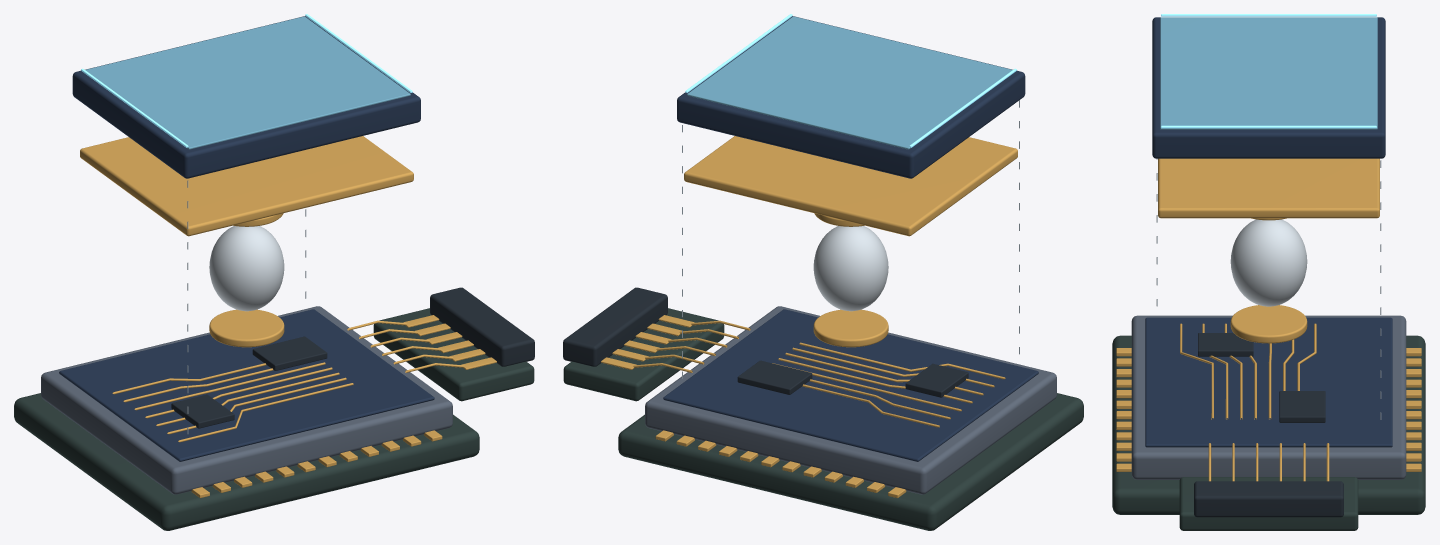
File: pixel.glb
3 views of the same model, side by side, from view 1: azimuth 30°, elevation 25°; view 2: azimuth 150°, elevation 25°; view 3: azimuth 270°, elevation 25° (orthographic). The views are drawn at different scales.
Parts seen in each view (by area): view 1: Readout — Representative detector surface, Absorber — False-color cold stage, Metallization — Representative gold metallization, Support — Warm electronics laminate, Readout — Ceramic contact carrier, Absorber — Representative detector surface, OutputInterface — Warm electronics laminate.001, Readout — Representative gold metallization, IndiumContact — Polished fasteners, OutputInterface — Black anodized aluminum.001, Readout — Black anodized aluminum, IndiumContact — Representative gold metallization (+2 smaller); view 2: Readout — Representative detector surface, Absorber — False-color cold stage, Metallization — Representative gold metallization, Support — Warm electronics laminate, Readout — Ceramic contact carrier, Absorber — Representative detector surface, OutputInterface — Warm electronics laminate.001, Readout — Representative gold metallization, IndiumContact — Polished fasteners, OutputInterface — Black anodized aluminum.001, Readout — Black anodized aluminum, IndiumContact — Representative gold metallization (+2 smaller); view 3: Readout — Representative detector surface, Absorber — False-color cold stage, Metallization — Representative gold metallization, Readout — Ceramic contact carrier, Absorber — Representative detector surface, Support — Warm electronics laminate, OutputInterface — Black anodized aluminum.001, IndiumContact — Polished fasteners, Readout — Representative gold metallization, OutputInterface — Warm electronics laminate.001, Readout — Black anodized aluminum, IndiumContact — Representative gold metallization (+2 smaller).
Part boxes in pixels (x1,y1,x2,y2): Readout — Representative detector surface: (59,309,434,461); Absorber — False-color cold stage: (85,16,410,149); Metallization — Representative gold metallization: (80,136,413,236); Support — Warm electronics laminate: (14,393,479,530); Readout — Ceramic contact carrier: (41,306,452,494); Absorber — Representative detector surface: (72,16,420,178); OutputInterface — Warm electronics laminate.001: (373,308,534,401); Readout — Representative gold metallization: (112,362,442,498); IndiumContact — Polished fasteners: (209,226,284,311); OutputInterface — Black anodized aluminum.001: (430,287,534,366); Readout — Black anodized aluminum: (171,336,327,428); IndiumContact — Representative gold metallization: (209,213,284,347); Readout — Representative detector surface: (663,309,1038,461); Absorber — False-color cold stage: (687,16,1012,149); Metallization — Representative gold metallization: (684,136,1017,236); Support — Warm electronics laminate: (618,393,1083,530); Readout — Ceramic contact carrier: (645,306,1056,494); Absorber — Representative detector surface: (677,16,1025,178); OutputInterface — Warm electronics laminate.001: (563,308,724,401); Readout — Representative gold metallization: (655,342,1005,498); IndiumContact — Polished fasteners: (813,226,888,311); OutputInterface — Black anodized aluminum.001: (563,287,667,366); Readout — Black anodized aluminum: (737,360,968,397); IndiumContact — Representative gold metallization: (813,213,888,347); Readout — Representative detector surface: (1145,317,1392,447); Absorber — False-color cold stage: (1160,17,1377,129); Metallization — Representative gold metallization: (1158,158,1379,218); Readout — Ceramic contact carrier: (1131,315,1406,479); Absorber — Representative detector surface: (1152,17,1385,158); Support — Warm electronics laminate: (1112,335,1425,514); OutputInterface — Black anodized aluminum.001: (1194,481,1343,517); IndiumContact — Polished fasteners: (1230,219,1307,306); Readout — Representative gold metallization: (1116,323,1421,471); OutputInterface — Warm electronics laminate.001: (1179,477,1358,530); Readout — Black anodized aluminum: (1198,333,1325,422); IndiumContact — Representative gold metallization: (1230,218,1307,343).
Bounding box in the file's own units: 3.04 × 2.54 × 1.96.
